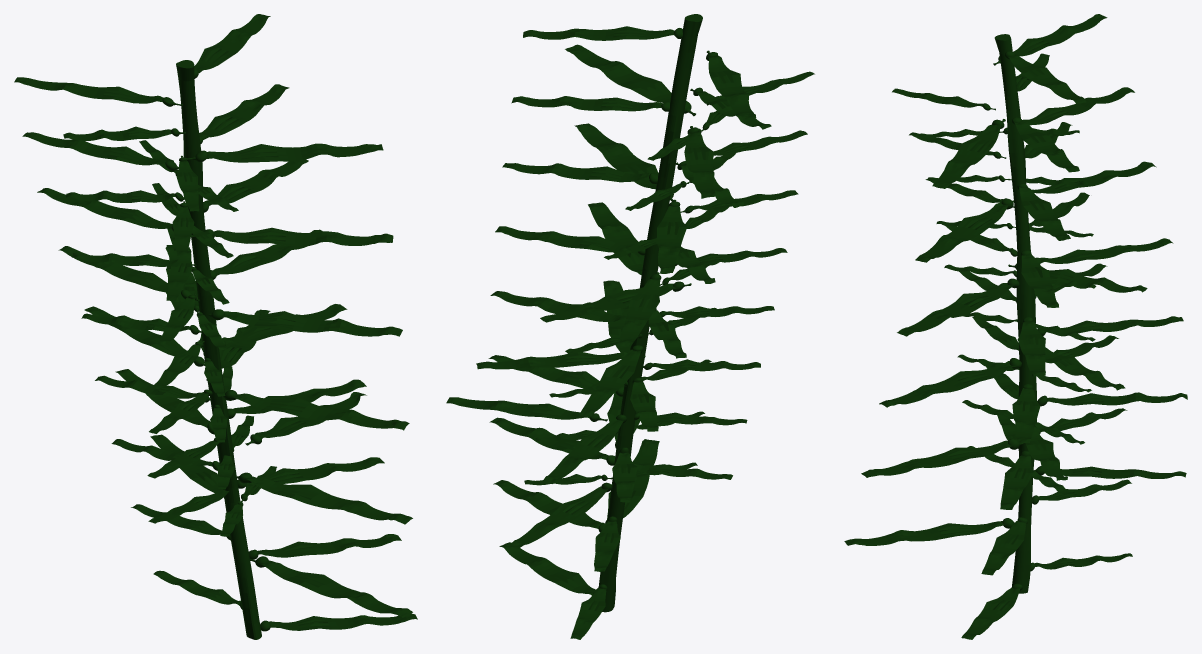
File: Seaweed.fbx
The picture shows the model from 3 angles, left to right: view 1: azimuth 30°, elevation 25°; view 2: azimuth 150°, elevation 25°; view 3: azimuth 270°, elevation 25°; orthographic projection. The views are drawn at different scales.
Visible parts, largest first — view 1: Plane.004, Plane, Plane.003, Plane.002, Cylinder, Plane.001, Plane.007, Plane.005, Plane.006; view 2: Plane, Plane.003, Plane.004, Plane.002, Cylinder, Plane.001, Plane.005, Plane.006, Plane.007; view 3: Plane, Plane.004, Plane.003, Cylinder, Plane.002, Plane.001, Plane.005, Plane.007, Plane.006.
Boxes of the visible parts, x1,y1,x2,y2 form: Plane.004: (186,143,412,617); Plane: (194,14,417,631); Plane.003: (14,77,224,498); Plane.002: (63,126,242,609); Cylinder: (176,60,261,639); Plane.001: (147,155,229,523); Plane.007: (191,185,243,536); Plane.005: (165,245,366,445); Plane.006: (139,140,276,501); Plane: (488,26,682,595); Plane.003: (509,50,756,548); Plane.004: (565,44,695,523); Plane.002: (570,87,771,639); Cylinder: (599,14,702,612); Plane.001: (633,71,814,479); Plane.005: (446,281,691,421); Plane.006: (524,128,703,485); Plane.007: (612,111,735,478); Plane: (961,51,1086,639); Plane.004: (844,119,1023,545); Plane.003: (993,14,1187,478); Cylinder: (994,34,1036,593); Plane.002: (1016,53,1132,571); Plane.001: (892,88,1018,448); Plane.005: (1008,263,1147,480); Plane.007: (918,129,1019,466); Plane.006: (999,127,1096,495).
Bounding box in the file's own units: 2958 × 5139 × 3075.
